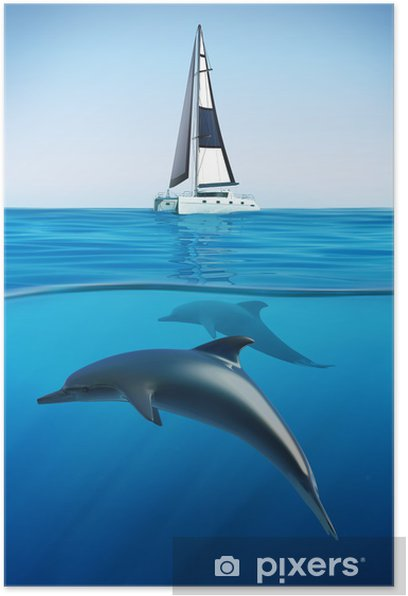dolphin: (29, 329, 357, 541), (153, 285, 348, 387)
